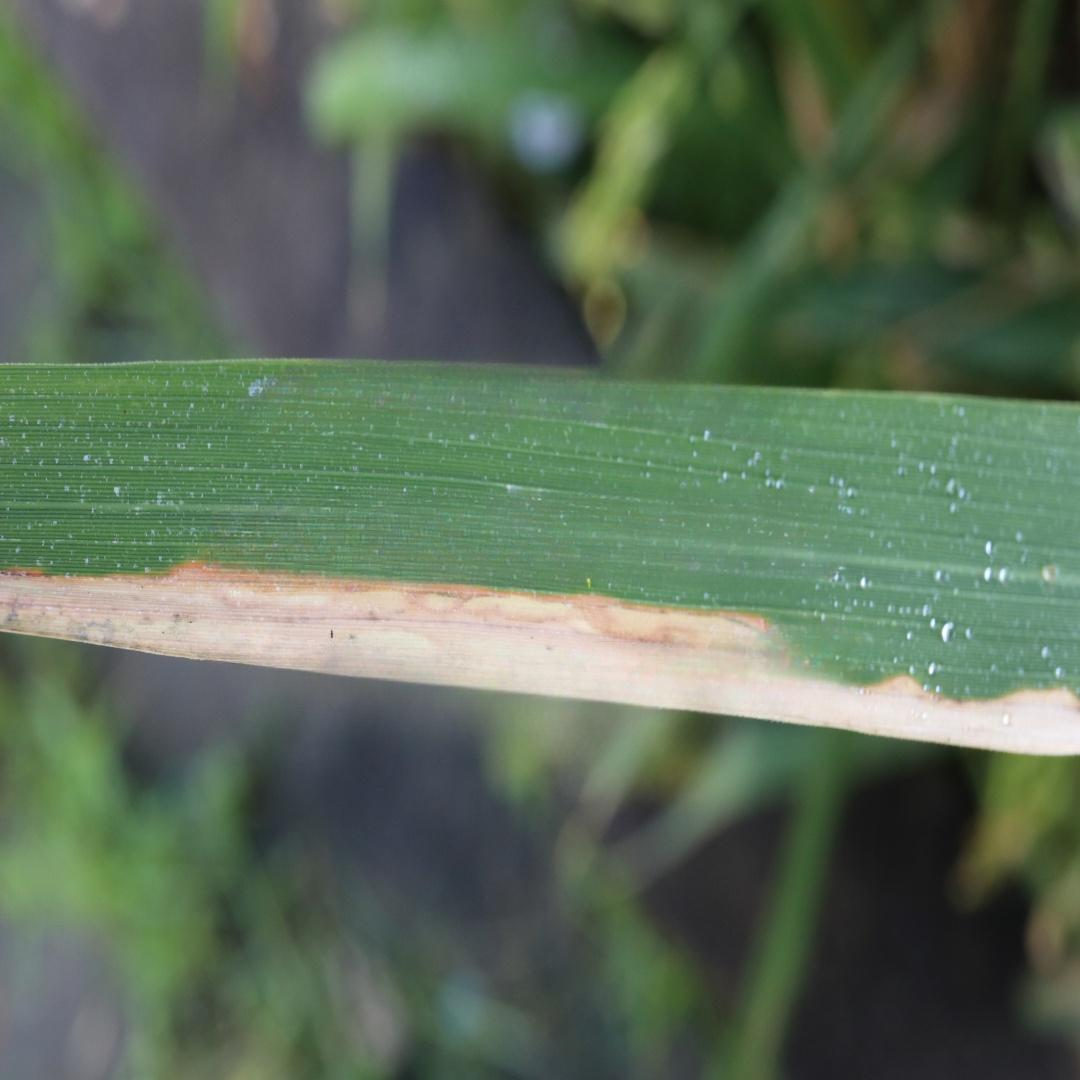BLB: (0, 558, 1078, 754)
LEAF: (0, 360, 1079, 755)
